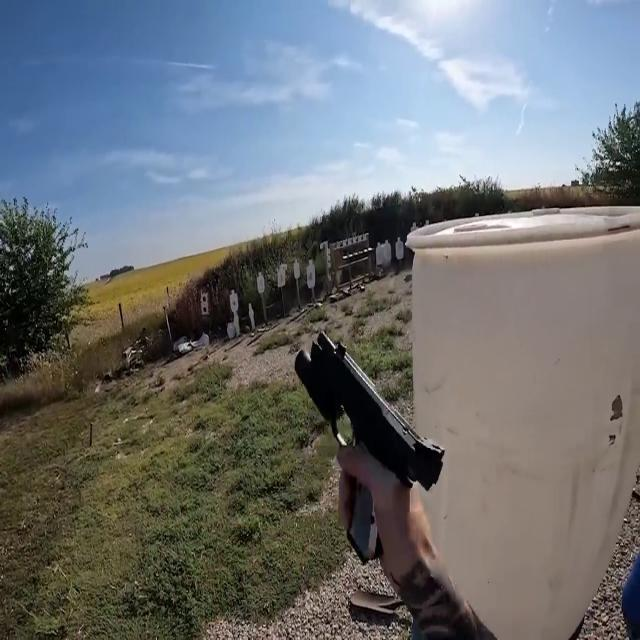Handgun: (290, 322, 454, 574)
